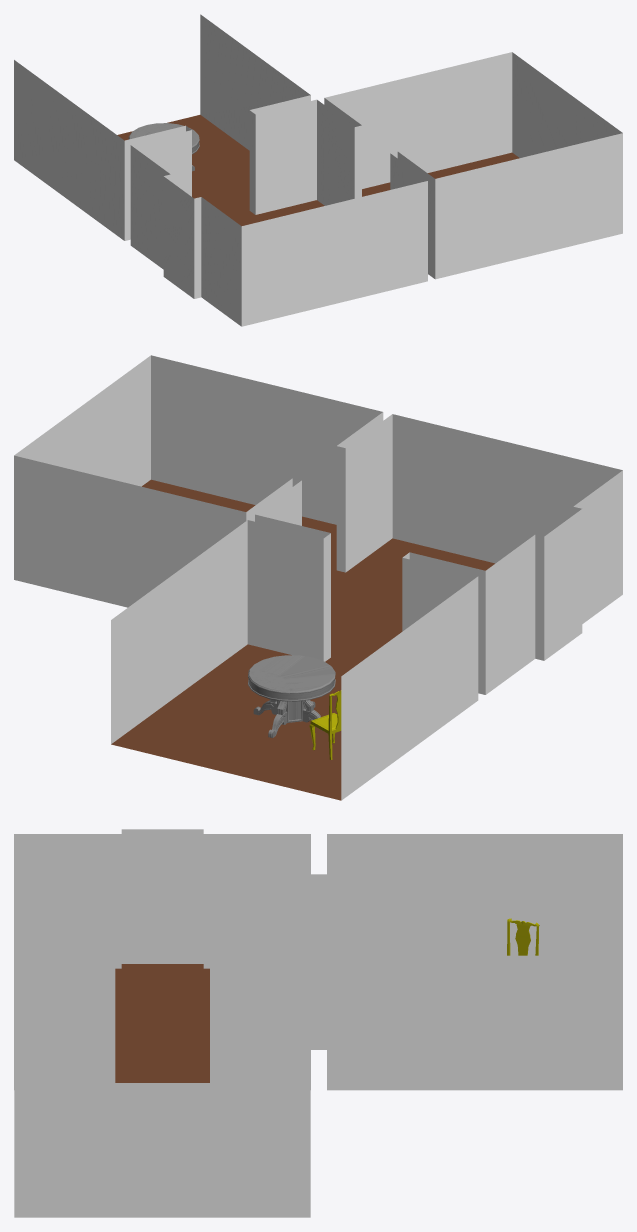
The picture shows the model from 3 angles, top to bottom: view 1: azimuth 30°, elevation 25°; view 2: azimuth 150°, elevation 25°; view 3: azimuth 270°, elevation 25°; orthographic projection. The views are drawn at different scales.
Visible parts, largest first — view 1: Walls, Floor, Table; view 2: Walls, Floor, Table, Chair; view 3: Walls, Floor, Chair.
Part boxes in pixels (bbox=[...]): Walls: bbox=[14, 14, 622, 326]; Floor: bbox=[117, 115, 519, 226]; Table: bbox=[128, 123, 199, 171]; Walls: bbox=[14, 355, 622, 800]; Floor: bbox=[111, 479, 494, 800]; Table: bbox=[248, 655, 335, 737]; Chair: bbox=[309, 690, 341, 759]; Walls: bbox=[14, 829, 622, 1217]; Floor: bbox=[115, 964, 209, 1082]; Chair: bbox=[507, 918, 539, 955].
Size of the model in its own units: 809 by 200 by 821.
